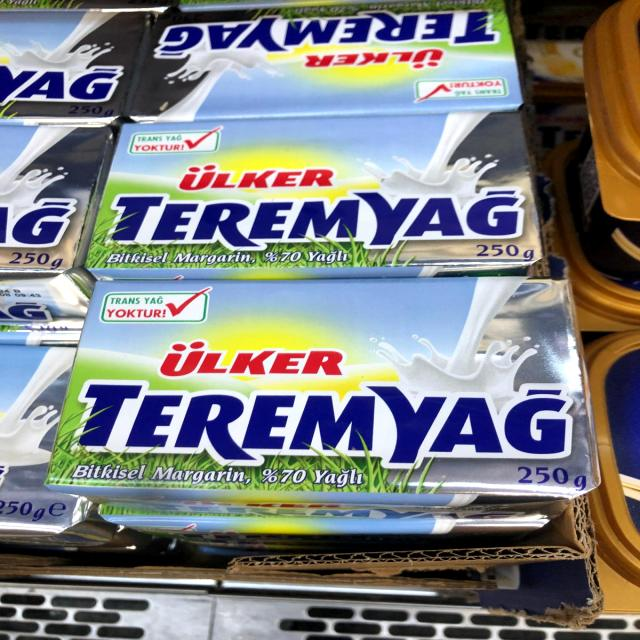margarine: (48, 284, 587, 504), (96, 118, 548, 276), (140, 8, 523, 117)
